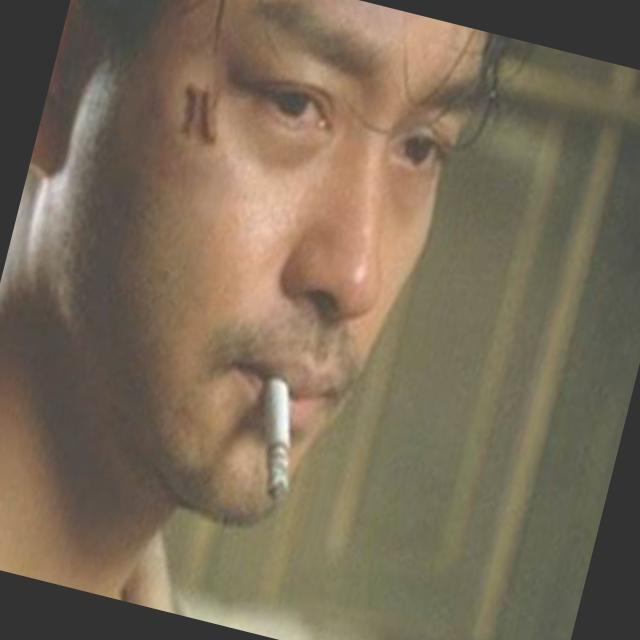cigarette: (238, 376, 315, 508)
